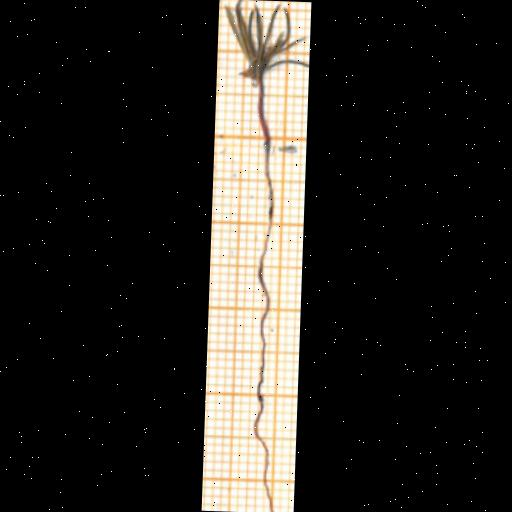flowerPinus: (225, 0, 308, 80)
rootPinus: (254, 145, 273, 511)
stemPinus: (256, 77, 271, 146)
